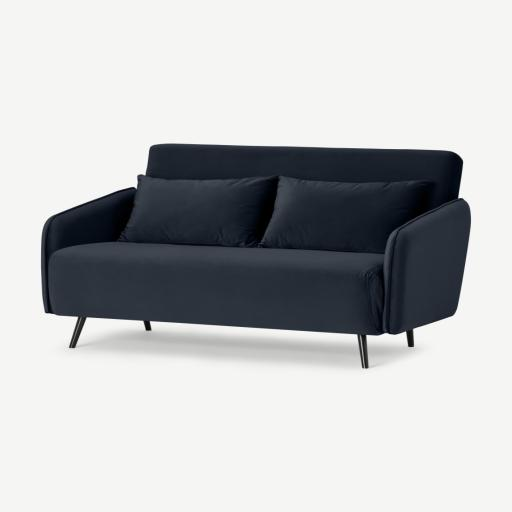back_cushion: (120, 176, 427, 252)
left_arm: (383, 199, 470, 346)
legs: (69, 317, 86, 347), (358, 335, 367, 368), (408, 331, 413, 347), (144, 321, 151, 330)
right_arm: (42, 189, 134, 313)
seat_cushion: (49, 242, 383, 335)
two-seater: (0, 0, 511, 512)
